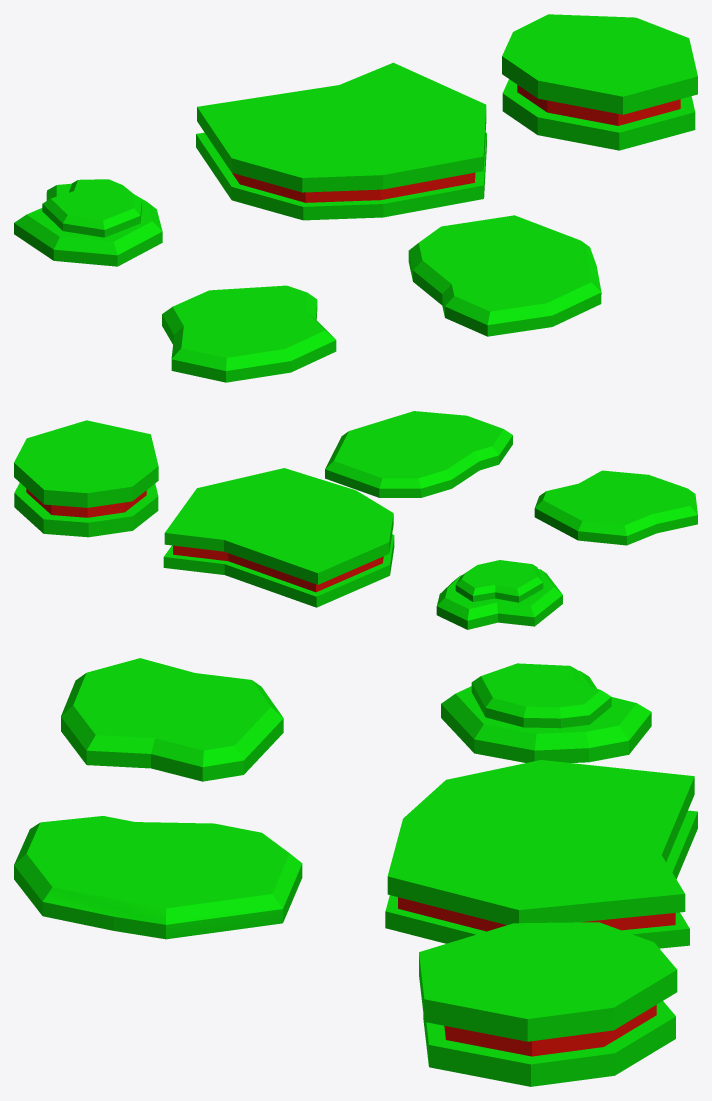
File: rocks (1).fbx
The picture shows the model from 3 angles, top to bottom: view 1: azimuth 30°, elevation 25°; view 2: azimuth 150°, elevation 25°; view 3: azimuth 270°, elevation 25°; orthographic projection. The views are drawn at different scales.
Parts seen in each view (by area): view 1: rock2, rock1, rock4, rock3, rock5; view 2: rock2, rock1, rock4, rock3, rock5; view 3: rock2, rock1, rock4, rock3, rock5.
Boxes of the visible parts, left/top/right/bottom form: rock2: left=196, top=62, right=486, bottom=220; rock1: left=502, top=14, right=697, bottom=150; rock4: left=408, top=215, right=601, bottom=336; rock3: left=162, top=285, right=336, bottom=382; rock5: left=14, top=179, right=162, bottom=266; rock2: left=163, top=468, right=394, bottom=607; rock1: left=14, top=420, right=158, bottom=537; rock4: left=325, top=411, right=512, bottom=497; rock3: left=534, top=470, right=697, bottom=545; rock5: left=436, top=560, right=562, bottom=629; rock2: left=385, top=760, right=697, bottom=948; rock1: left=419, top=922, right=677, bottom=1086; rock4: left=14, top=816, right=302, bottom=939; rock3: left=61, top=658, right=283, bottom=781; rock5: left=441, top=663, right=651, bottom=762.
Bounding box in the file's own units: 1041 × 81.73 × 733.
